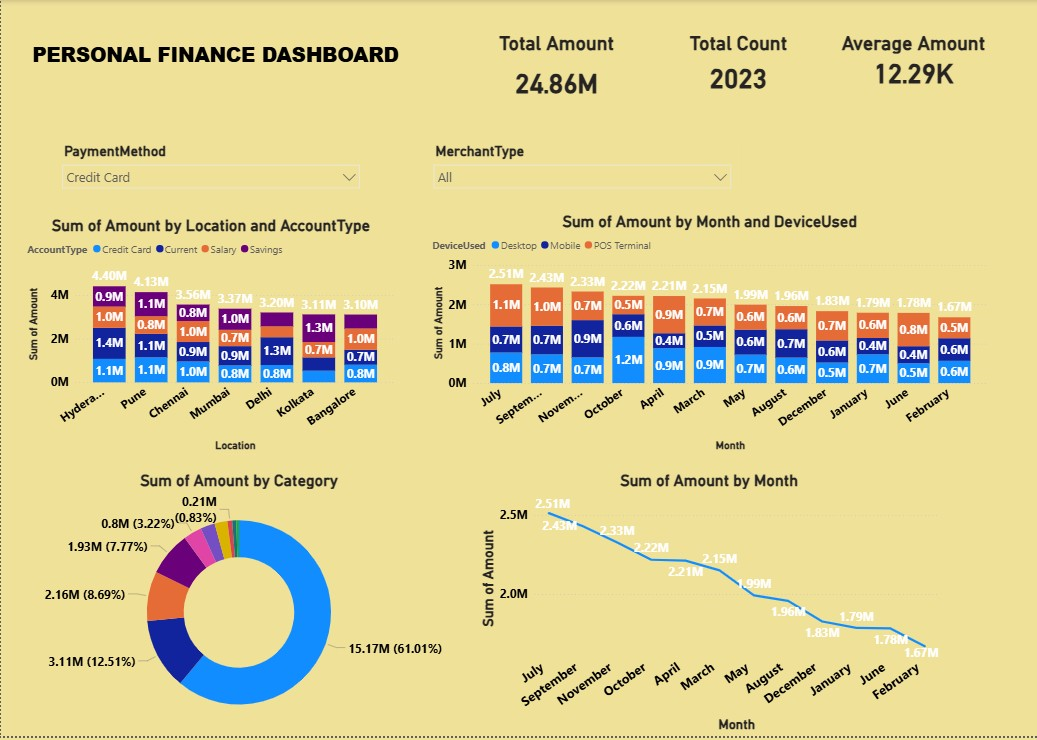

The page's visual inventory and layout, read from the dashboard file:
{"tool":"powerbi","page":{"name":"Page 1","canvas":[1409,1000],"ordinal":0},"visuals":[{"type":"card","title":"Total Amount","fields":{"Values":["Sum(personal_finance_dataset_8000_extended.Amount)"]},"box":[645.4,42.5,219.1,107],"z":0},{"type":"card","title":"Total Count","fields":{"Values":["CountNonNull(personal_finance_dataset_8000_extended.Amount)"]},"box":[891.6,42.5,220.8,93.4],"z":1000},{"type":"card","title":"Average Amount","fields":{"Values":["Avg(personal_finance_dataset_8000_extended.Amount)"]},"box":[1134.5,42.5,210.6,79.8],"z":2000},{"type":"columnChart","fields":{"Y":["Sum(personal_finance_dataset_8000_extended.Amount)"],"Category":["personal_finance_dataset_8000_extended.Location"],"Series":["personal_finance_dataset_8000_extended.AccountType"]},"box":[30.6,293.8,509.5,324.4],"z":3000},{"type":"columnChart","fields":{"Y":["Sum(personal_finance_dataset_8000_extended.Amount)"],"Category":["personal_finance_dataset_8000_extended.Month"],"Series":["personal_finance_dataset_8000_extended.DeviceUsed"]},"box":[580.8,288.7,764.3,329.5],"z":4000},{"type":"donutChart","fields":{"Y":["Sum(personal_finance_dataset_8000_extended.Amount)"],"Category":["personal_finance_dataset_8000_extended.Category"]},"box":[6.8,640.3,633.5,360.1],"z":5000},{"type":"lineChart","fields":{"Y":["Sum(personal_finance_dataset_8000_extended.Amount)"],"Category":["personal_finance_dataset_8000_extended.Month"]},"box":[645.4,640.3,633.5,360.1],"z":6000},{"type":"slicer","fields":{"Values":["personal_finance_dataset_8000_extended.PaymentMethod"]},"box":[73,190.2,424.6,67.9],"z":7000},{"type":"slicer","fields":{"Values":["personal_finance_dataset_8000_extended.MerchantType"]},"box":[577.4,190.2,424.6,67.9],"z":8000},{"type":"textbox","box":[37.4,49.3,572.4,79.8],"z":8001}]}

Visuals, with their boxes in screenshot pixels (x1, y1, x2, y2), scaled from the page's 1409x1000 canvas onto the 1037x740 screenshot:
"Total Amount" card: (475,31,636,111)
"Total Count" card: (656,31,819,101)
"Average Amount" card: (835,31,990,91)
columnChart - Sum(personal_finance_dataset_8000_extended.Amount) x personal_finance_dataset_8000_extended.Location: (23,217,398,457)
columnChart - Sum(personal_finance_dataset_8000_extended.Amount) x personal_finance_dataset_8000_extended.Month: (427,214,990,457)
donutChart - Sum(personal_finance_dataset_8000_extended.Amount) x personal_finance_dataset_8000_extended.Category: (5,474,471,739)
lineChart - Sum(personal_finance_dataset_8000_extended.Amount) x personal_finance_dataset_8000_extended.Month: (475,474,941,739)
slicer - personal_finance_dataset_8000_extended.PaymentMethod: (54,141,366,191)
slicer - personal_finance_dataset_8000_extended.MerchantType: (425,141,737,191)
textbox: (28,36,449,96)
